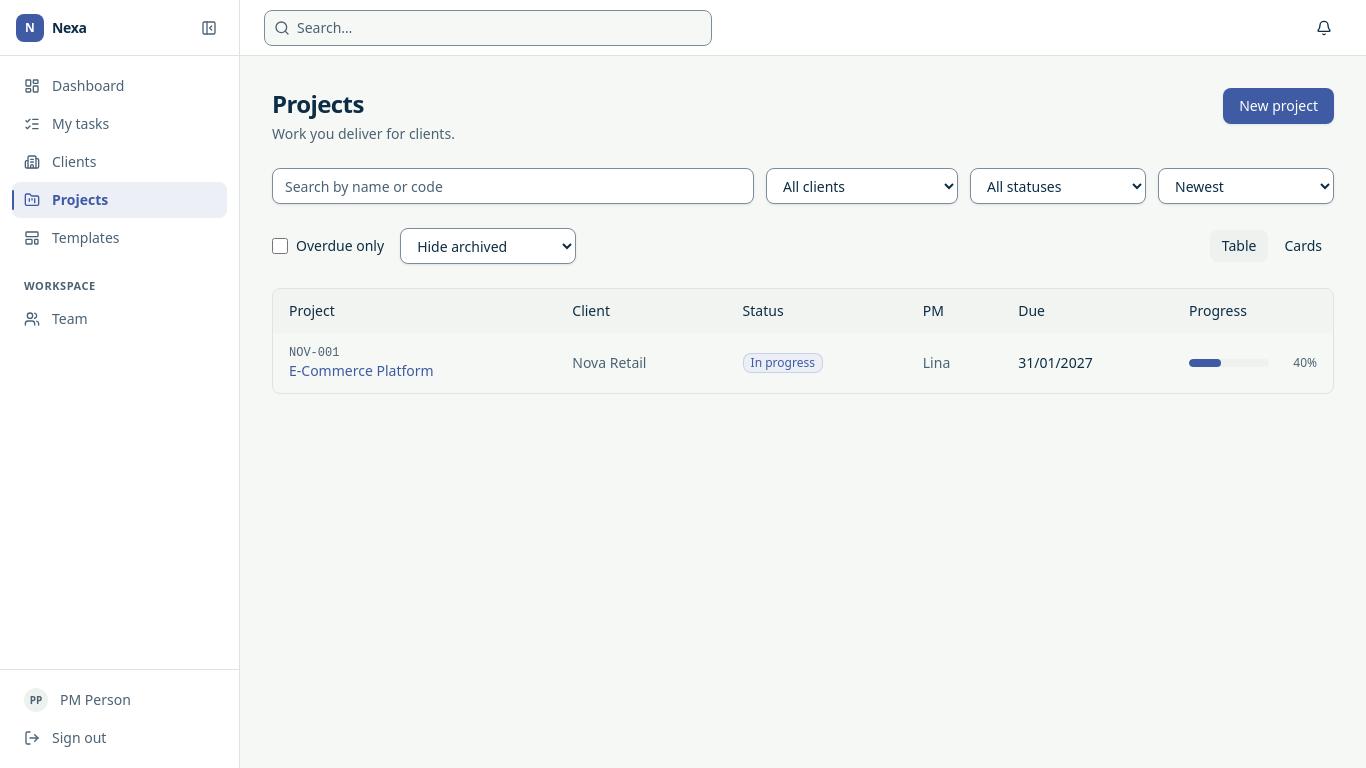
Test: Projects list › shows rows and switches to cards; the trash filter is for Owner/Admin only
Expected: the row with test id "project-row-NOV-001" is shown, 273,333 -> 1333,393
What coordinates should you click on to do the following:
click the button "Cards"
I would click on:
 (1303, 246)
Its box is 1272,230 -> 1334,262.
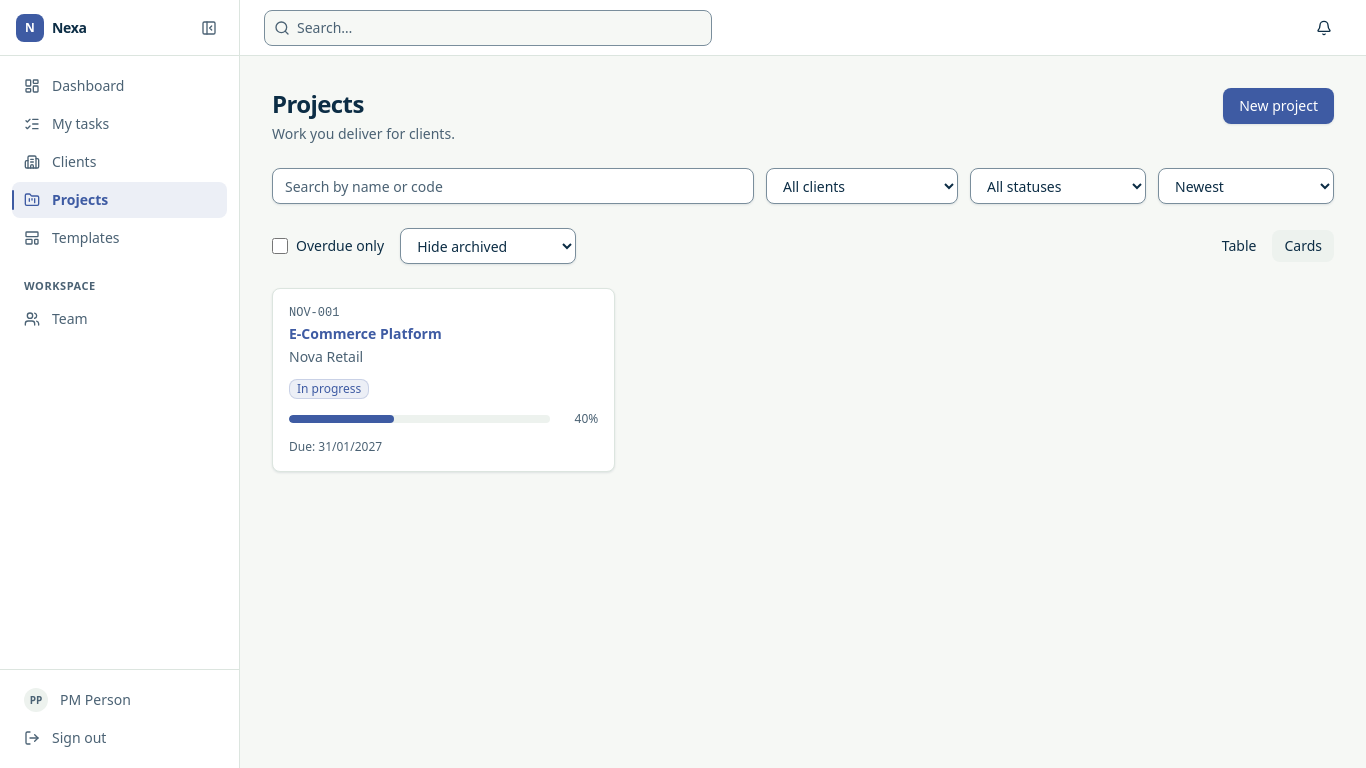
Expected: the element with test id "project-card-NOV-001" is shown, 272,288 -> 615,472
